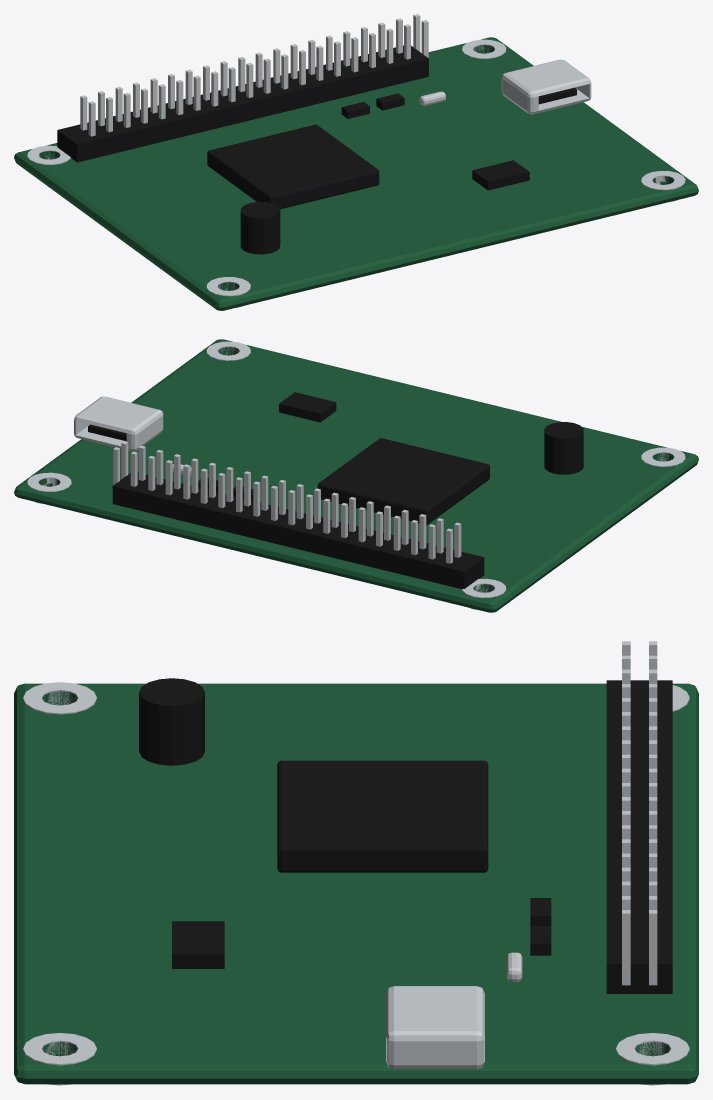
The model's file is board.glb.
The picture shows the model from 3 angles, top to bottom: view 1: azimuth 30°, elevation 25°; view 2: azimuth 150°, elevation 25°; view 3: azimuth 270°, elevation 25°; orthographic projection. The views are drawn at different scales.
Visible parts, largest first — view 1: board_pcb, board_header, board_parts, board_metal, board_usb, board_rings, board_cap; view 2: board_pcb, board_header, board_metal, board_parts, board_usb, board_rings, board_cap; view 3: board_pcb, board_parts, board_header, board_usb, board_metal, board_rings, board_cap.
Boxes of the visible parts, <box> form: board_pcb: <box>14,37,698,310</box>; board_header: <box>57,45,428,162</box>; board_parts: <box>207,93,529,208</box>; board_metal: <box>80,14,445,136</box>; board_usb: <box>501,59,591,114</box>; board_rings: <box>27,39,685,307</box>; board_cap: <box>240,201,280,254</box>; board_pcb: <box>14,339,698,612</box>; board_header: <box>112,473,484,588</box>; board_metal: <box>113,441,461,563</box>; board_parts: <box>198,392,489,524</box>; board_usb: <box>74,396,163,451</box>; board_rings: <box>27,341,685,609</box>; board_cap: <box>544,422,583,474</box>; board_pcb: <box>14,683,698,1084</box>; board_parts: <box>172,760,551,968</box>; board_header: <box>606,680,672,993</box>; board_usb: <box>386,986,484,1069</box>; board_metal: <box>506,641,657,985</box>; board_rings: <box>23,682,689,1085</box>; board_cap: <box>139,678,204,765</box>.
Size of the model in its own units: 0.0706 by 0.0087 by 0.052.
